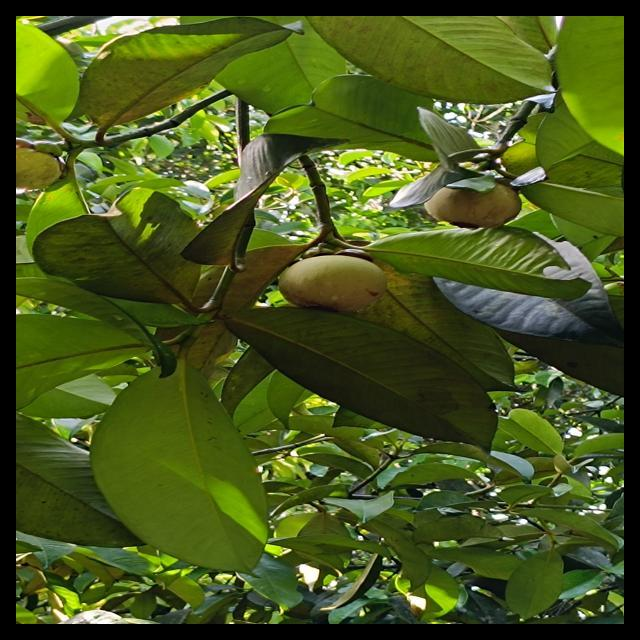mangosteen: (432, 156, 533, 255)
